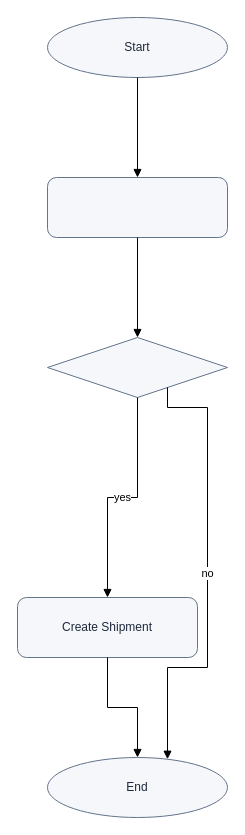
This 245x835 diagram has some shape labels left out. Each missing label, with the centre of its shape:
"Stock available?" goes at (137,367).
"Validate Order" goes at (137,207).
